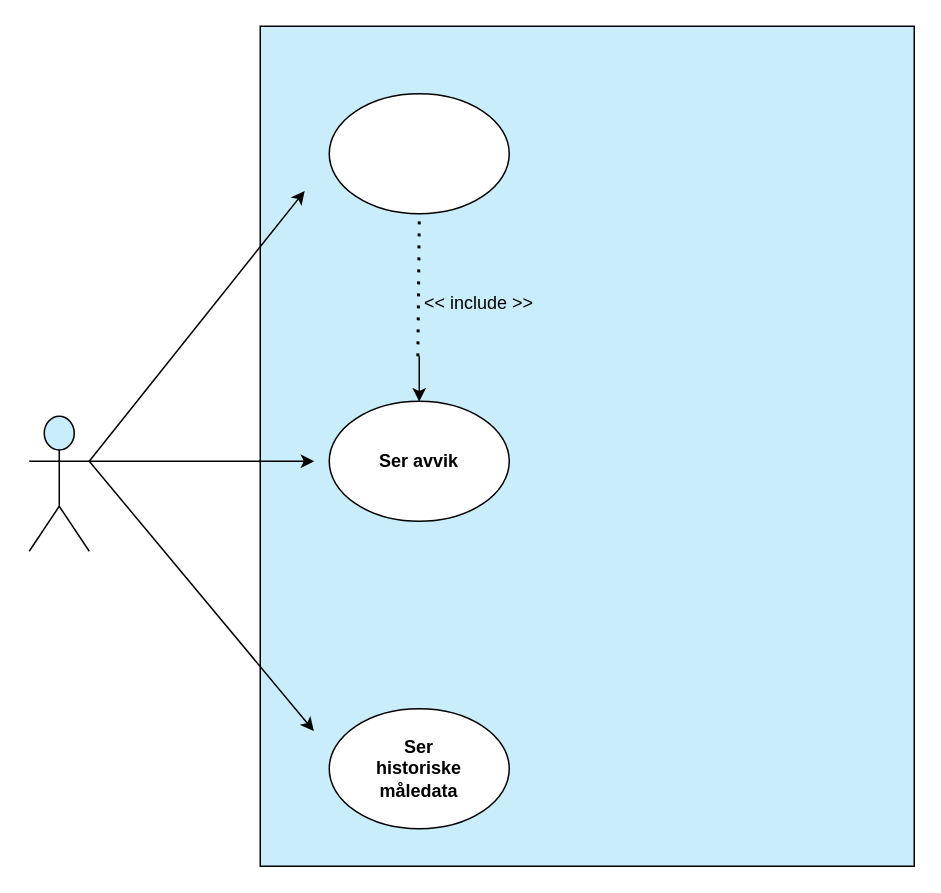
This 941x893 diagram has some shape labels left out. Each missing label, with the box of its shape:
Bruker: (28, 415, 89, 551)
Sjekk vannkvalitet: (328, 92, 509, 214)
